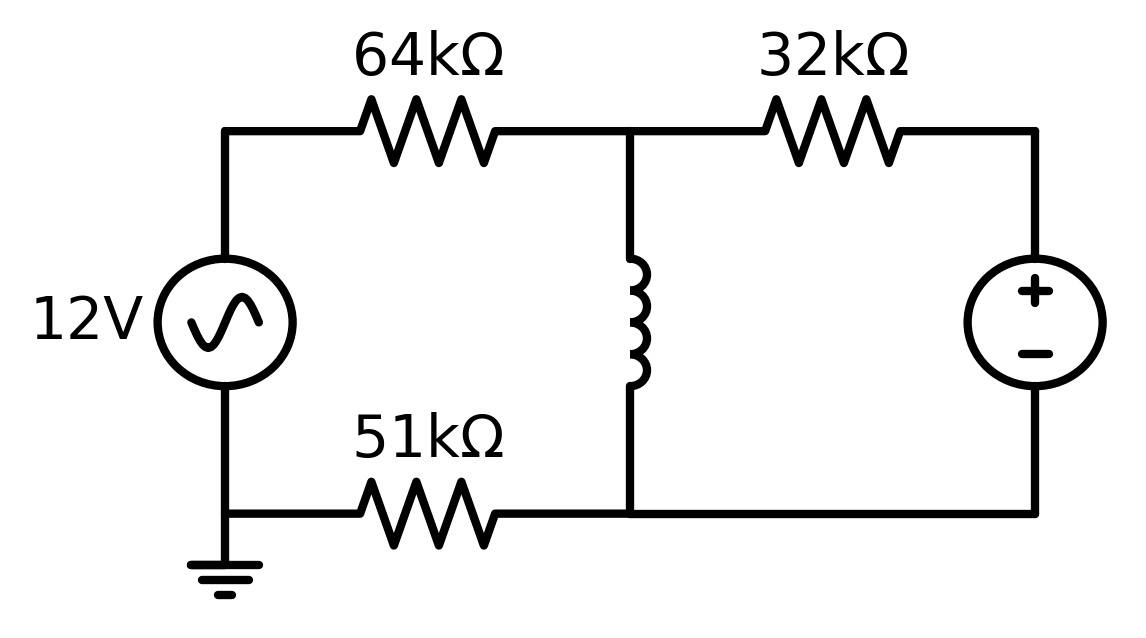ground: (170, 544, 288, 614)
inductor: (590, 243, 679, 421)
resistor: (339, 87, 509, 191), (744, 82, 910, 182), (347, 465, 503, 562)
sourceac: (144, 239, 310, 403)
sourcedc: (944, 249, 1110, 411)
